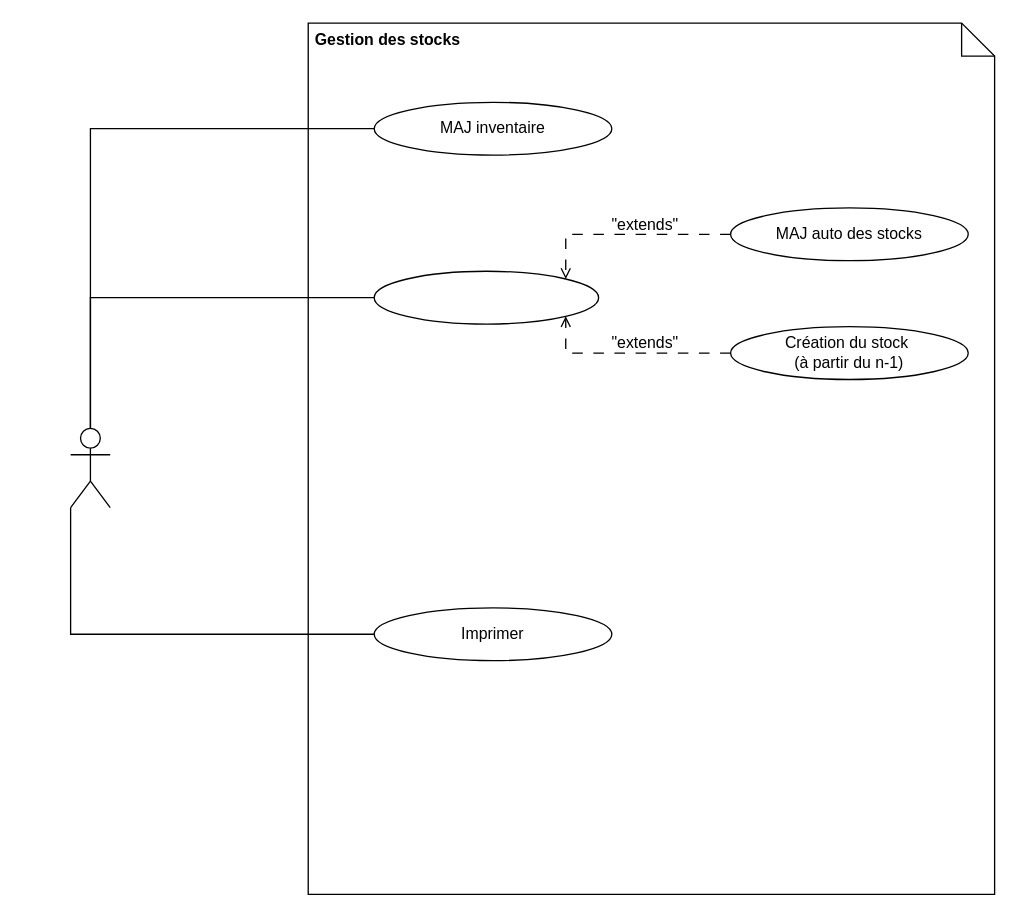
Some shapes in this 1018 by 917 pixel diagram are drawn without their labels. Each missing label, with the centre of its shape:
"Gérer le stock" goes at pixel 486 297.
"Opérateur de stock" goes at pixel 89 467.
